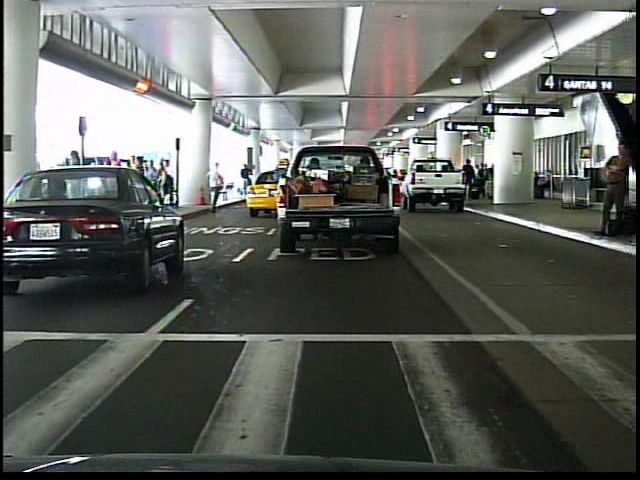person: (599, 139, 636, 247), (101, 150, 128, 224), (204, 157, 227, 213), (238, 162, 257, 196)
